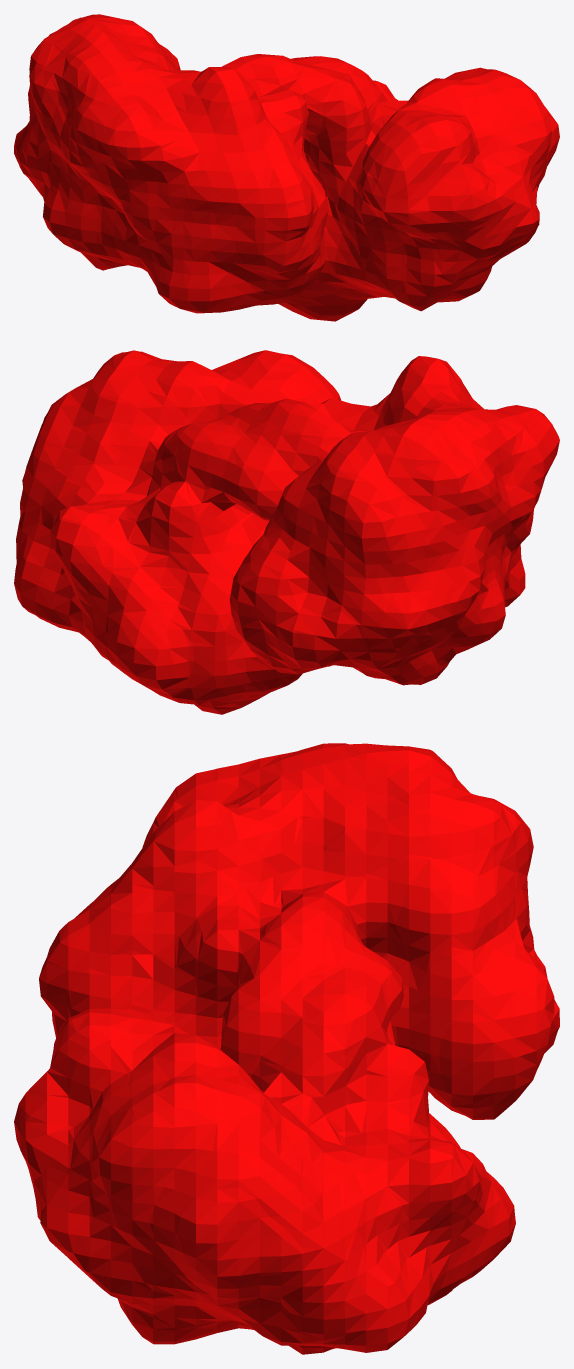
The model's file is trmA_coarse.dae.
3 views of the same model, one above another, from view 1: azimuth 30°, elevation 25°; view 2: azimuth 150°, elevation 25°; view 3: azimuth 270°, elevation 25° (orthographic). The views are drawn at different scales.
Visible parts, largest first — view 1: trmA; view 2: trmA; view 3: trmA.
Boxes of the visible parts, bbox=[...] form: trmA: bbox=[14, 14, 559, 321]; trmA: bbox=[14, 350, 559, 714]; trmA: bbox=[14, 743, 559, 1354].
Size of the model in its own units: 103 by 69.91 by 75.36.
